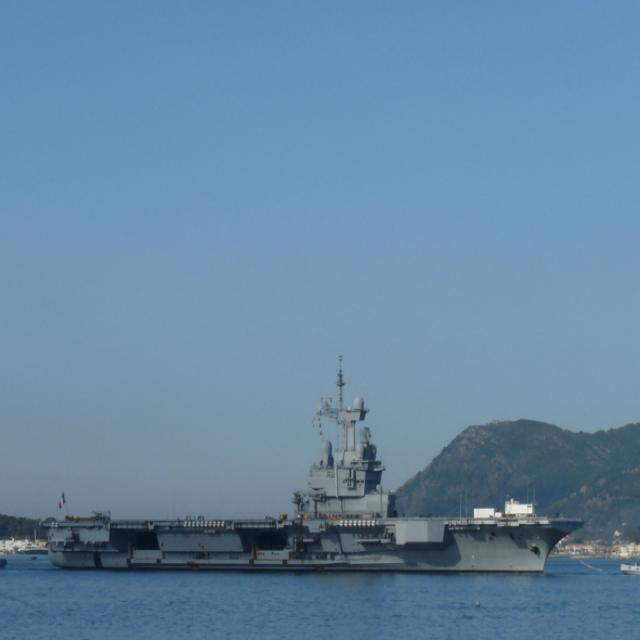Portanaves: (41, 353, 589, 584)
